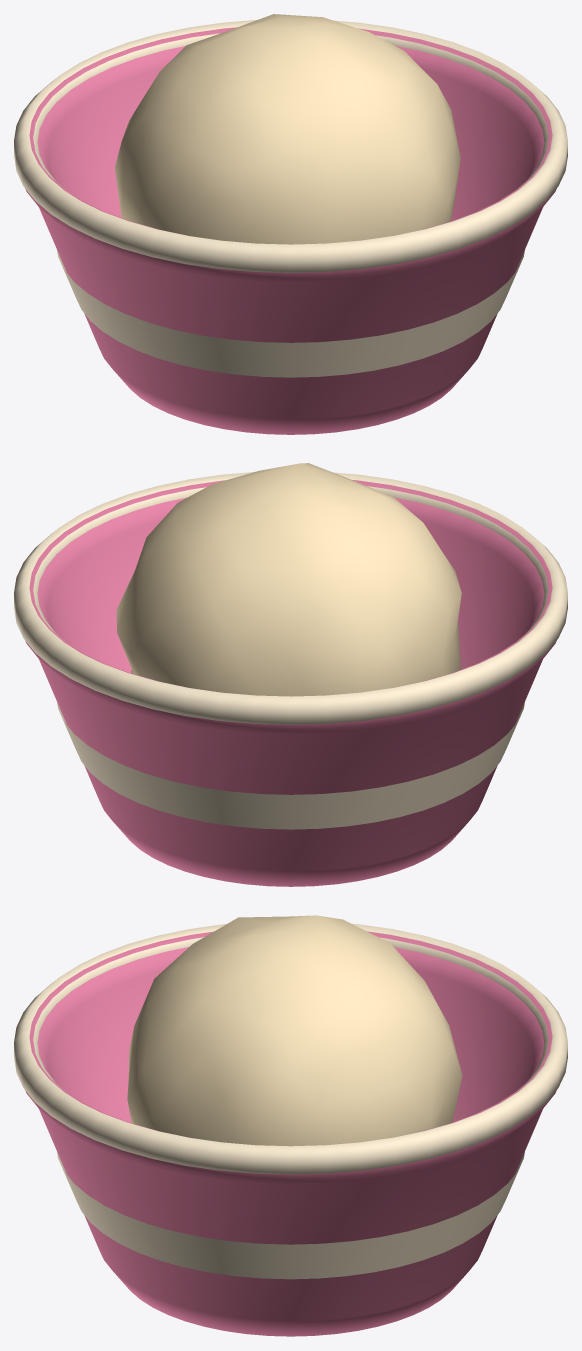
File: One_scoop_bowl.fbx
The picture shows the model from 3 angles, top to bottom: view 1: azimuth 30°, elevation 25°; view 2: azimuth 150°, elevation 25°; view 3: azimuth 270°, elevation 25°; orthographic projection.
Visible parts, largest first — view 1: Toon_One_scoop_bowl Paper bowl.001, Toon_One_scoop_bowl Vanilla scoop.001, Toon_One_scoop_bowl Rolled paper rim.001, Toon_One_scoop_bowl Cream band.001; view 2: Toon_One_scoop_bowl Paper bowl.001, Toon_One_scoop_bowl Vanilla scoop.001, Toon_One_scoop_bowl Rolled paper rim.001, Toon_One_scoop_bowl Cream band.001; view 3: Toon_One_scoop_bowl Paper bowl.001, Toon_One_scoop_bowl Vanilla scoop.001, Toon_One_scoop_bowl Rolled paper rim.001, Toon_One_scoop_bowl Cream band.001.
Part boxes in pixels (left/top/right/bottom): Toon_One_scoop_bowl Paper bowl.001: left=25, top=27, right=556, bottom=434; Toon_One_scoop_bowl Vanilla scoop.001: left=115, top=14, right=460, bottom=244; Toon_One_scoop_bowl Rolled paper rim.001: left=14, top=19, right=567, bottom=272; Toon_One_scoop_bowl Cream band.001: left=57, top=250, right=524, bottom=377; Toon_One_scoop_bowl Paper bowl.001: left=25, top=480, right=556, bottom=886; Toon_One_scoop_bowl Vanilla scoop.001: left=116, top=463, right=461, bottom=696; Toon_One_scoop_bowl Rolled paper rim.001: left=14, top=472, right=567, bottom=724; Toon_One_scoop_bowl Cream band.001: left=57, top=702, right=524, bottom=829; Toon_One_scoop_bowl Paper bowl.001: left=25, top=931, right=556, bottom=1336; Toon_One_scoop_bowl Vanilla scoop.001: left=127, top=915, right=462, bottom=1146; Toon_One_scoop_bowl Rolled paper rim.001: left=14, top=923, right=567, bottom=1174; Toon_One_scoop_bowl Cream band.001: left=57, top=1152, right=524, bottom=1279.
Bounding box in the file's own units: 16.6 × 11 × 16.6.
